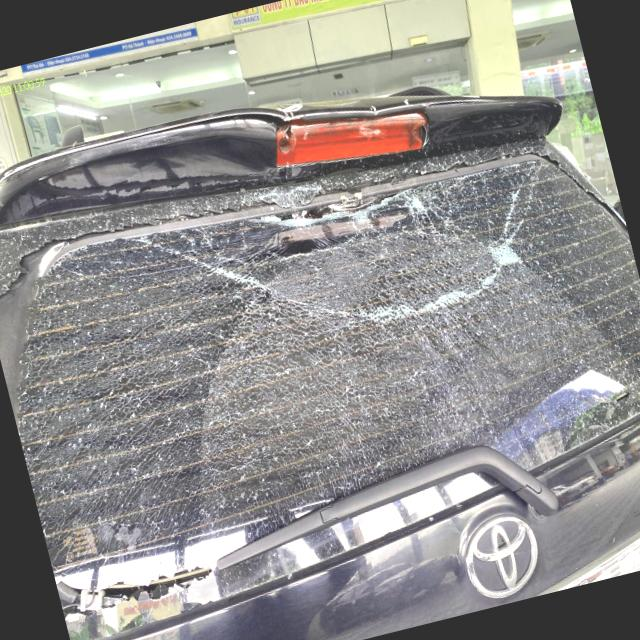Fissure: (137, 132, 586, 384), (0, 223, 206, 558), (227, 188, 366, 271), (379, 185, 448, 232)
